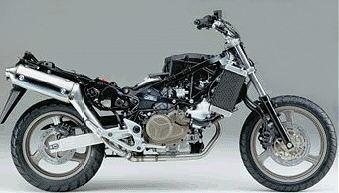motorcycle: (1, 5, 339, 193)
